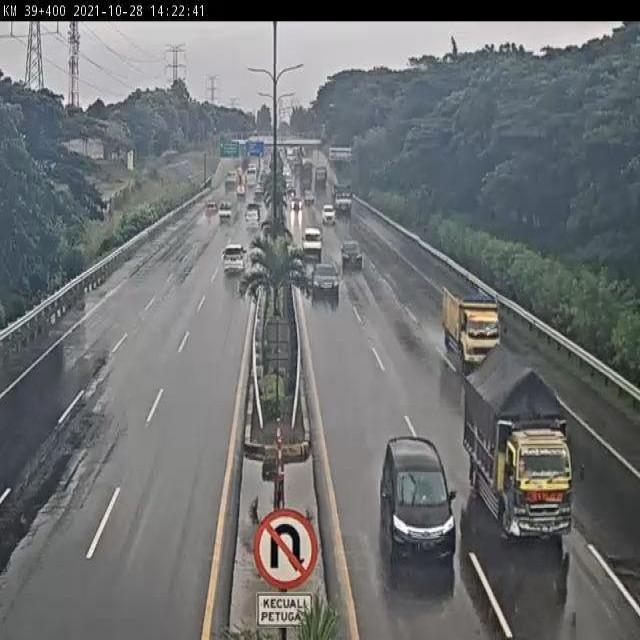truck-s-: (463, 341, 585, 543), (442, 286, 509, 374)
